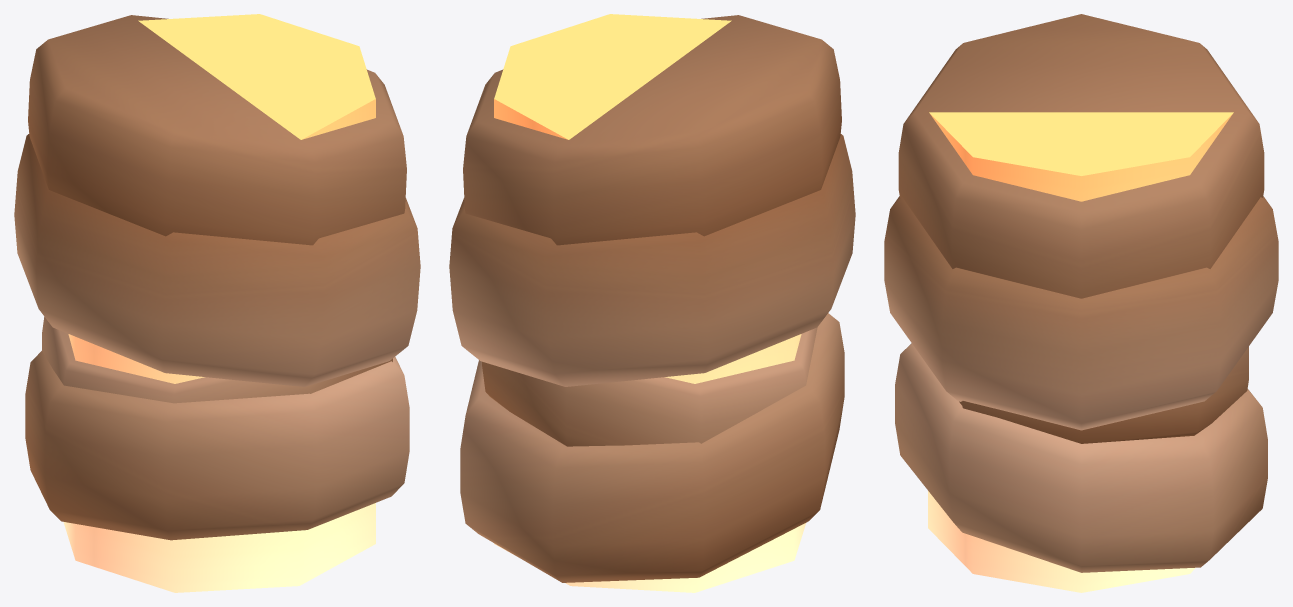
File: wood_grip_093_004.glb
3 renders of one model, left to right at view 1: azimuth 30°, elevation 25°; view 2: azimuth 150°, elevation 25°; view 3: azimuth 270°, elevation 25°, orthographic. The views are drawn at different scales.
Parts seen in each view (by area): view 1: wood_grip_093.004; view 2: wood_grip_093.004; view 3: wood_grip_093.004.
Boxes of the visible parts, x1,y1,x2,y2 form: wood_grip_093.004: (14, 14, 420, 592); wood_grip_093.004: (449, 14, 855, 592); wood_grip_093.004: (884, 14, 1278, 592).
Size of the model in its own units: 2.55 by 3.2 by 2.57.
1 material, 1 textured.
